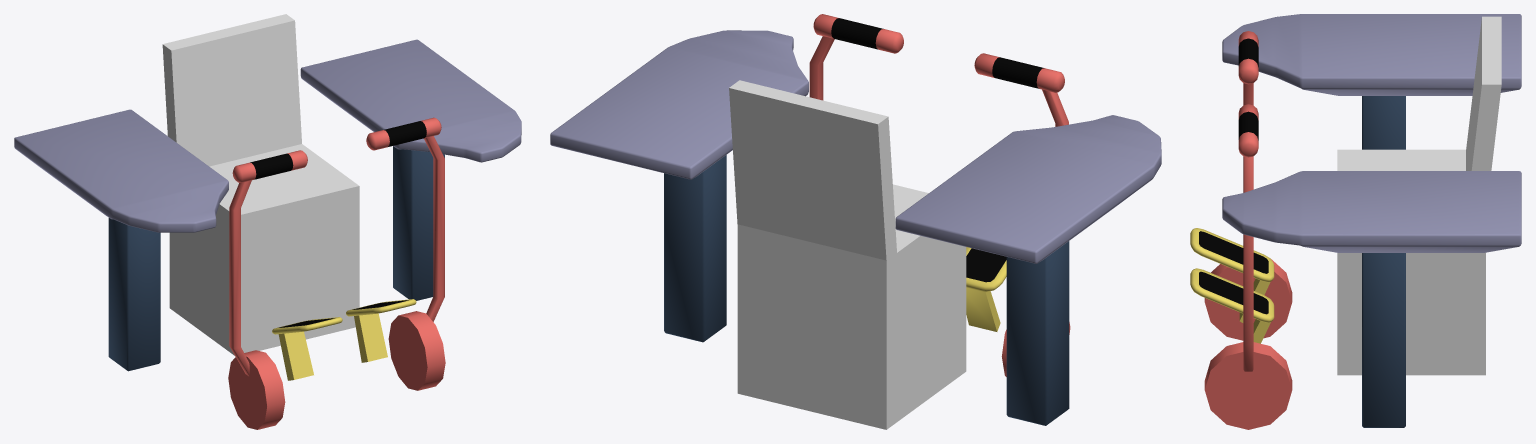
The model's file is Cockpit.fbx.
The picture shows the model from 3 angles, left to right: view 1: azimuth 30°, elevation 25°; view 2: azimuth 150°, elevation 25°; view 3: azimuth 270°, elevation 25°; orthographic projection. The views are drawn at different scales.
Visible parts, largest first — view 1: Chair, Side Panel Right, Side Panels Left, Panel Stand Right, Panel Stand Left, Left Lever Base, Left Lever Base.001, Right Lever Post, Left Lever Post, Right Foot Pedel, Left Foot Pedel, Left Lever Handle (+1 smaller); view 2: Chair, Side Panel Right, Side Panels Left, Panel Stand Right, Panel Stand Left, Right Foot Pedel, Right Lever Handle, Left Lever Handle, Left Lever Post; view 3: Side Panels Left, Chair, Side Panel Right, Panel Stand Left, Left Lever Base, Left Lever Base.001, Panel Stand Right, Left Foot Pedel, Right Foot Pedel, Left Lever Post, Left Lever Handle, Right Lever Handle.
Boxes of the visible parts, x1,y1,x2,y2 form: Chair: [162, 14, 359, 355]; Side Panel Right: [14, 109, 228, 232]; Side Panels Left: [300, 39, 521, 162]; Panel Stand Right: [108, 218, 160, 371]; Panel Stand Left: [393, 146, 444, 300]; Left Lever Base: [388, 311, 445, 390]; Left Lever Base.001: [228, 350, 285, 429]; Right Lever Post: [229, 180, 251, 376]; Left Lever Post: [424, 136, 444, 321]; Right Foot Pedel: [272, 317, 342, 380]; Left Foot Pedel: [346, 299, 416, 362]; Left Lever Handle: [366, 117, 441, 150]; Chair: [729, 80, 966, 429]; Side Panel Right: [895, 115, 1161, 263]; Side Panels Left: [550, 30, 808, 179]; Panel Stand Right: [1006, 241, 1069, 425]; Panel Stand Left: [664, 155, 726, 342]; Right Foot Pedel: [966, 247, 1006, 331]; Right Lever Handle: [974, 53, 1064, 92]; Left Lever Handle: [813, 14, 903, 53]; Left Lever Post: [809, 36, 834, 100]; Side Panels Left: [1222, 171, 1521, 252]; Chair: [1337, 16, 1501, 375]; Side Panel Right: [1222, 14, 1521, 95]; Panel Stand Left: [1362, 253, 1405, 427]; Left Lever Base: [1204, 342, 1292, 429]; Left Lever Base.001: [1204, 259, 1292, 340]; Panel Stand Right: [1362, 96, 1405, 149]; Left Foot Pedel: [1190, 268, 1274, 343]; Right Foot Pedel: [1190, 228, 1274, 322]; Left Lever Post: [1243, 156, 1253, 371]; Left Lever Handle: [1238, 104, 1258, 157]; Right Lever Handle: [1238, 31, 1258, 84].
Bounding box in the file's own units: 134 × 93.18 × 84.6.
